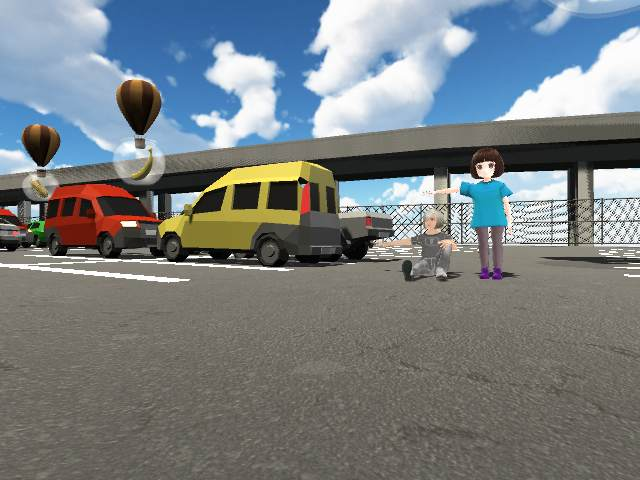doubleP_left: (374, 147, 515, 284)
